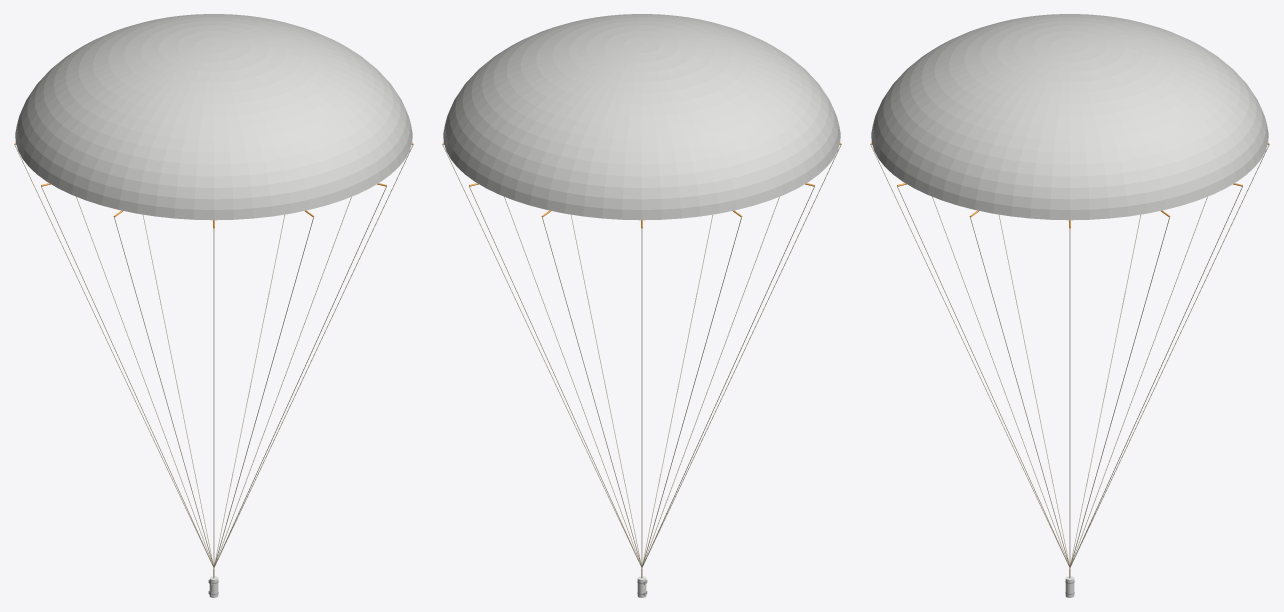
File: stage17_radial_recovery_chute_s_deployed.glb
3 views of the same model, side by side, from view 1: azimuth 30°, elevation 25°; view 2: azimuth 150°, elevation 25°; view 3: azimuth 270°, elevation 25° (orthographic).
Parts seen in each view (by area): view 1: canopy, riser_lines; view 2: canopy, riser_lines; view 3: canopy, riser_lines.
Part boxes in pixels (x1,y1,x2,y2): canopy: (15,14,412,220); riser_lines: (14,144,413,578); canopy: (443,14,840,220); riser_lines: (442,144,841,578); canopy: (871,14,1268,220); riser_lines: (870,144,1269,578).
Size of the model in its own units: 18.03 by 27.45 by 18.03.
